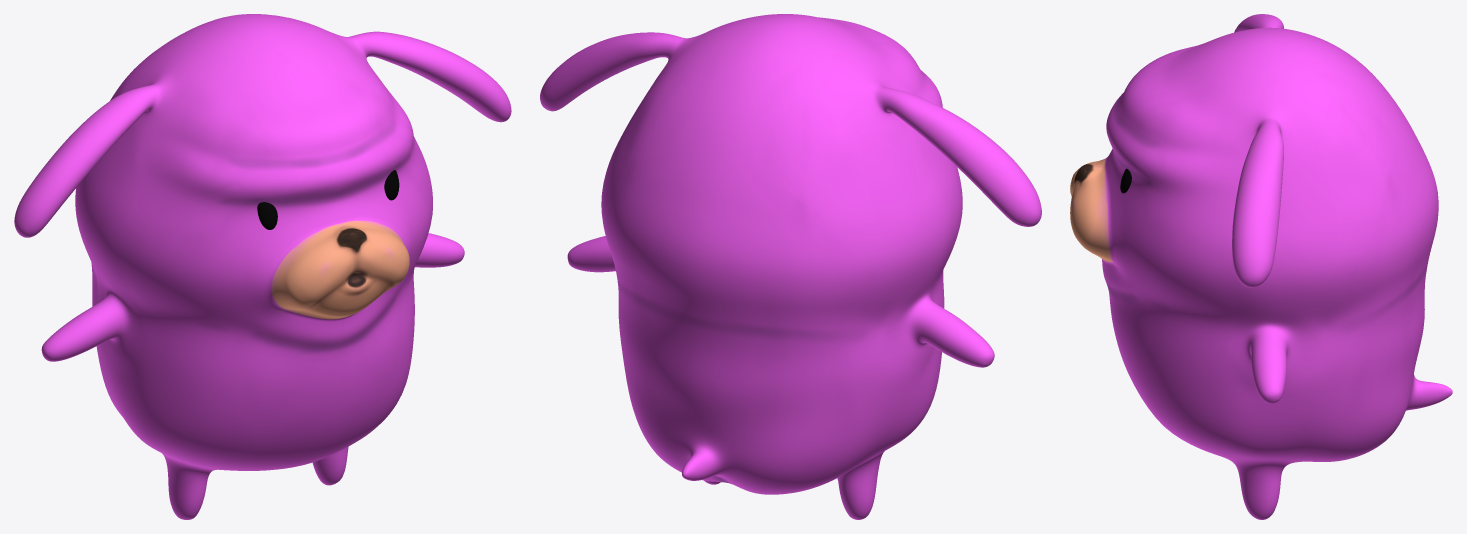
The model's file is greg_basic_export_applied_uv.glb.
3 renders of one model, left to right at view 1: azimuth 30°, elevation 25°; view 2: azimuth 150°, elevation 25°; view 3: azimuth 270°, elevation 25°, orthographic. The views are drawn at different scales.
Visible parts, largest first — view 1: GregBase (Retopo), Eyes; view 2: GregBase (Retopo); view 3: GregBase (Retopo).
Boxes of the visible parts, <box> form: GregBase (Retopo): <box>14,14,511,519</box>; Eyes: <box>257,170,399,229</box>; GregBase (Retopo): <box>540,14,1041,519</box>; GregBase (Retopo): <box>1070,14,1452,519</box>.
Bounding box in the file's own units: 3.07 × 2.82 × 2.19.
2 materials, 2 textured.
